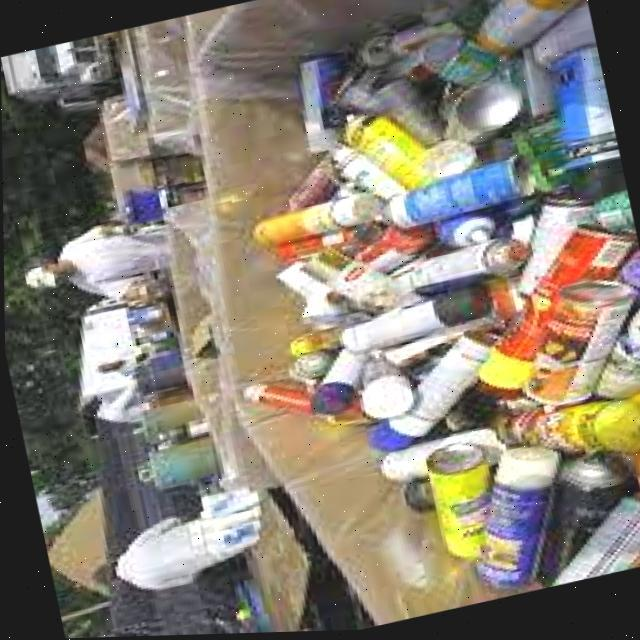Garbage: (245, 0, 640, 590)
